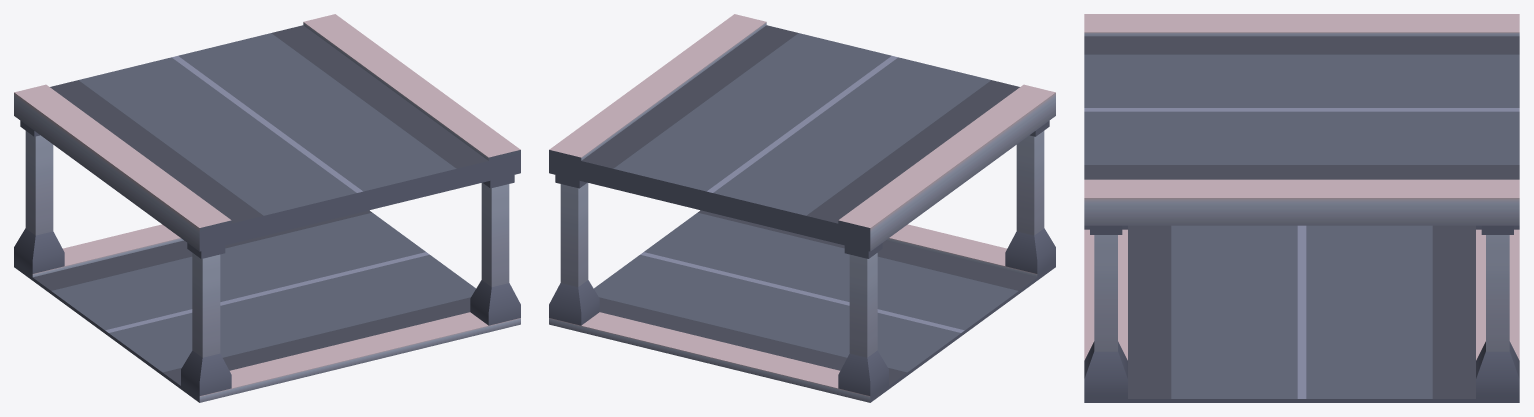
File: road_road_bridge.glb
3 renders of one model, left to right at view 1: azimuth 30°, elevation 25°; view 2: azimuth 150°, elevation 25°; view 3: azimuth 270°, elevation 25°, orthographic. The views are drawn at different scales.
Parts seen in each view (by area): view 1: road-bridge; view 2: road-bridge; view 3: road-bridge.
Part boxes in pixels (box(x1,y1,x2,y2)): road-bridge: box(14, 14, 520, 402); road-bridge: box(549, 14, 1055, 402); road-bridge: box(1084, 14, 1519, 402).
Bounding box in the file's own units: 1 × 0.52 × 1.
1 material, 1 textured.
